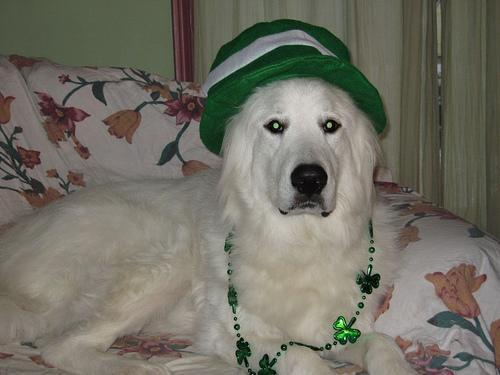Great_Pyrenees: (1, 71, 417, 373)
